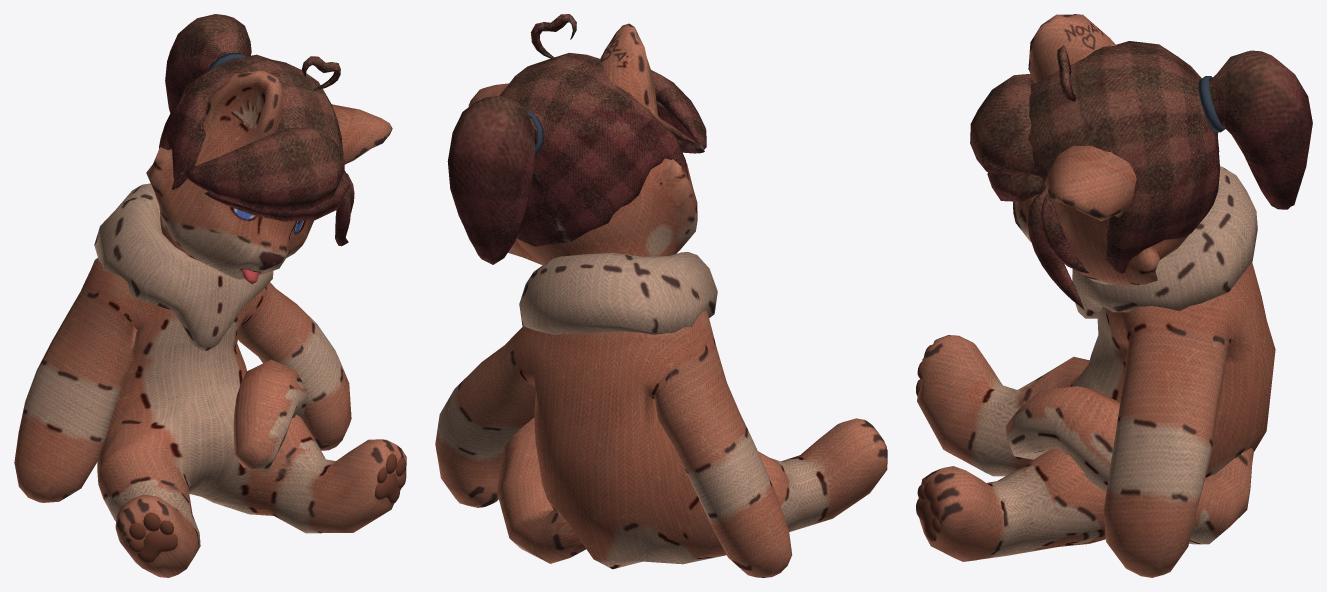
Rendered from RahiPlush.glb.
3 views of the same model, side by side, from view 1: azimuth 30°, elevation 25°; view 2: azimuth 150°, elevation 25°; view 3: azimuth 270°, elevation 25° (orthographic). The views are drawn at different scales.
Parts seen in each view (by area): view 1: PlushRahi; view 2: PlushRahi; view 3: PlushRahi.
Boxes of the visible parts, x1,y1,x2,y2 form: PlushRahi: (14, 14, 406, 577); PlushRahi: (435, 14, 887, 577); PlushRahi: (916, 14, 1312, 577).
Size of the model in its own units: 0.8808 by 1.15 by 0.7884.
Materials: 1 (1 with a texture image).
